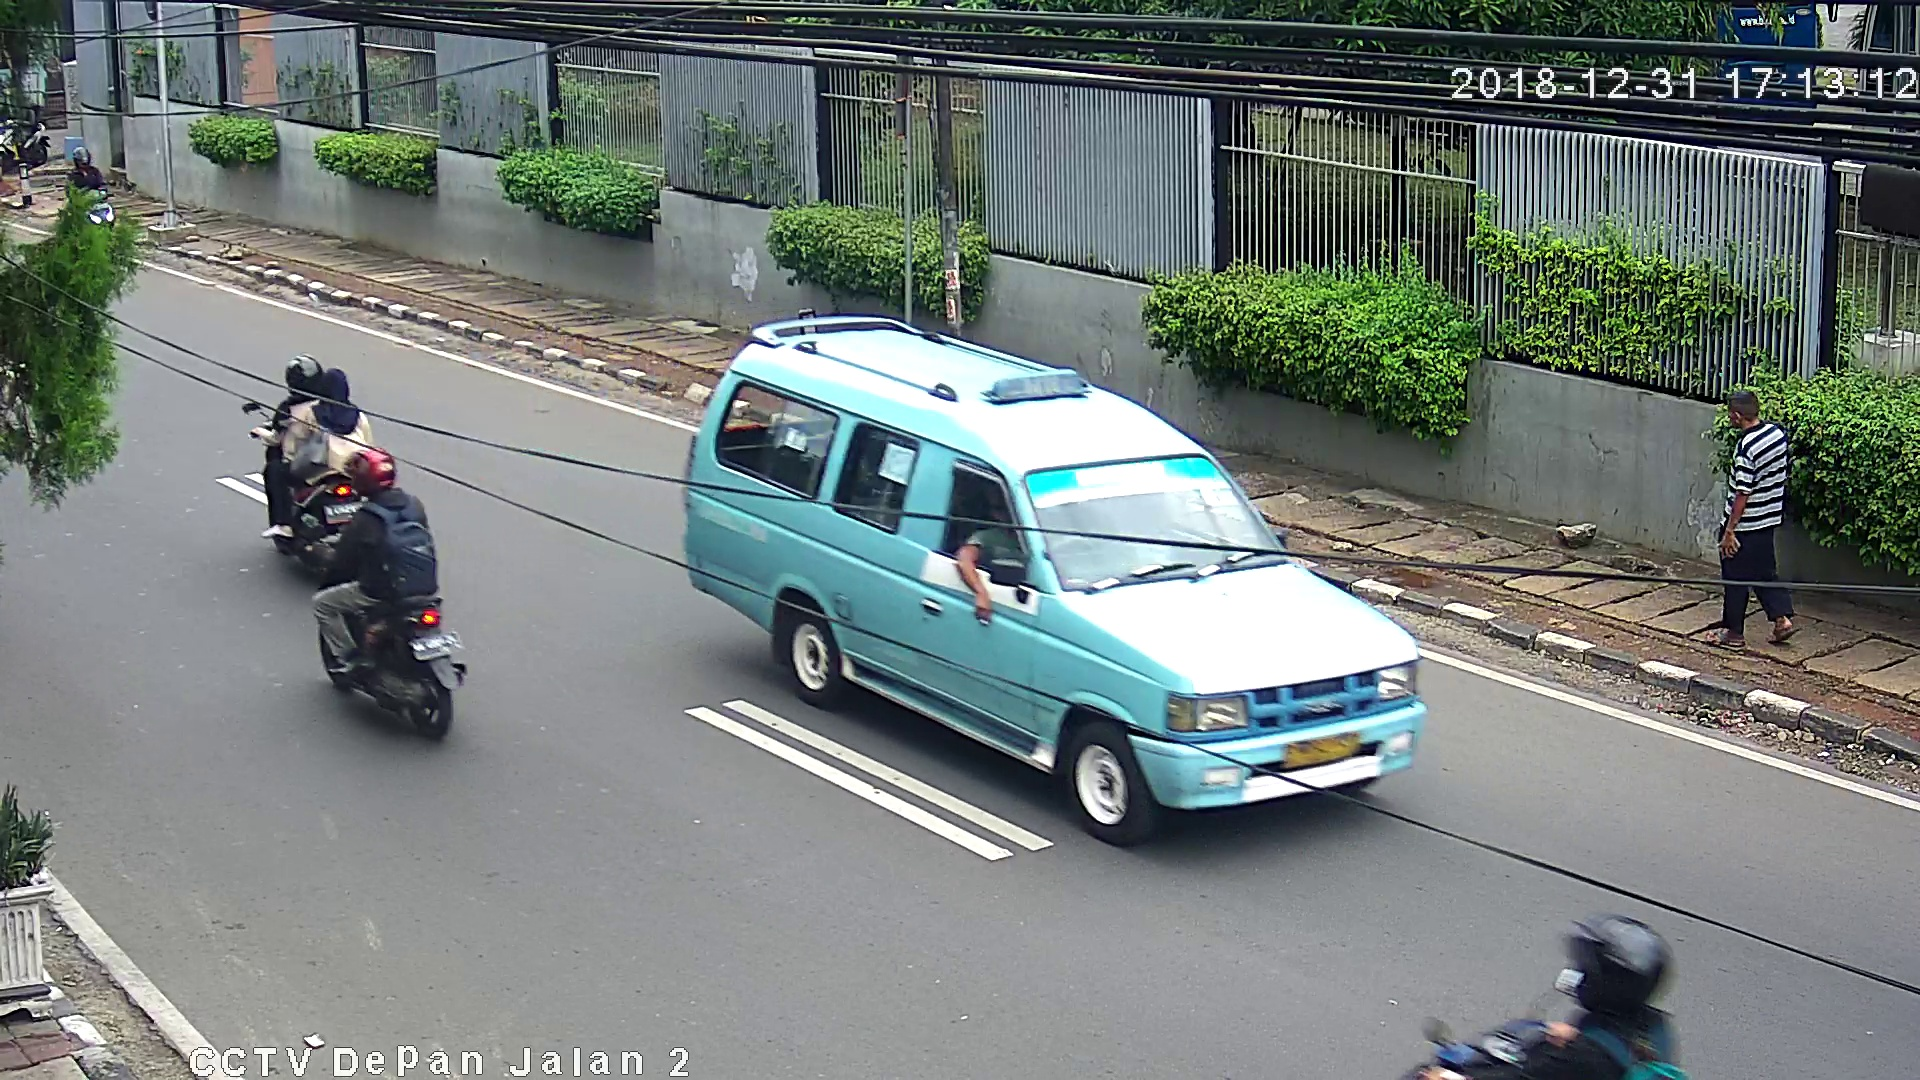car: (680, 314, 1425, 847)
motorcycle: (307, 447, 468, 745), (239, 351, 376, 562)
